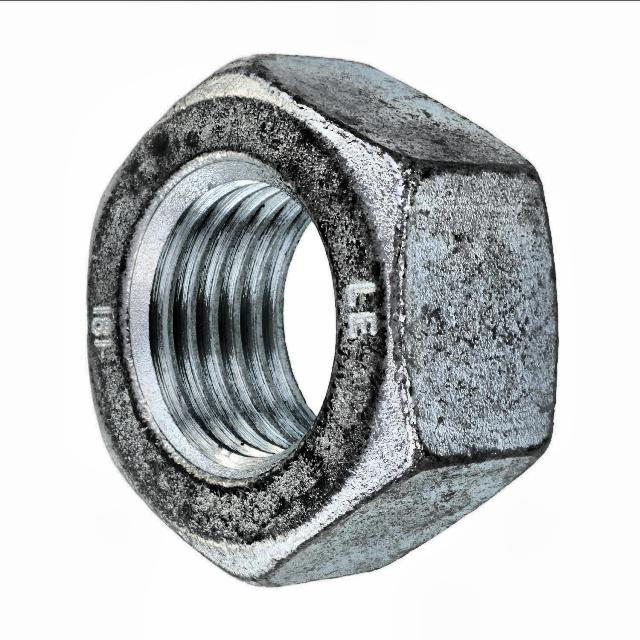Nut Detection - v1 Nut Dataset: (62, 22, 592, 584)
